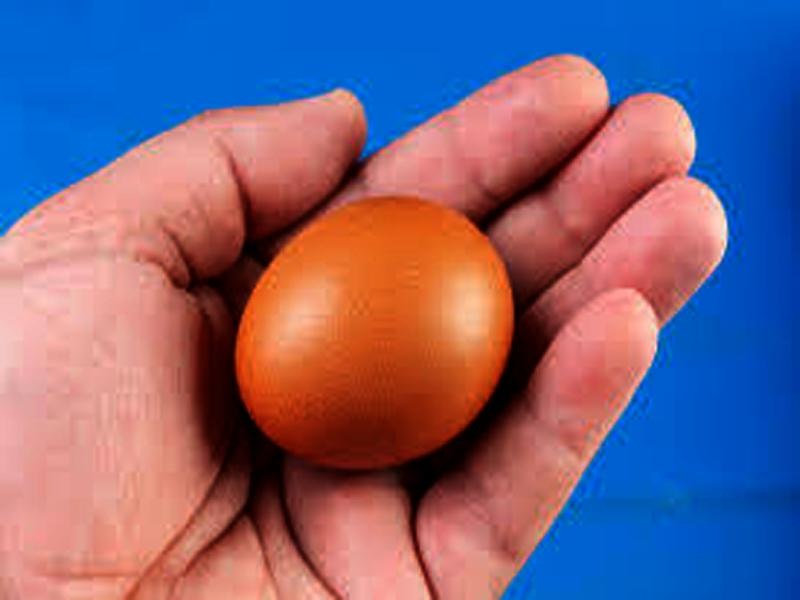Eggs: (236, 197, 518, 462)
